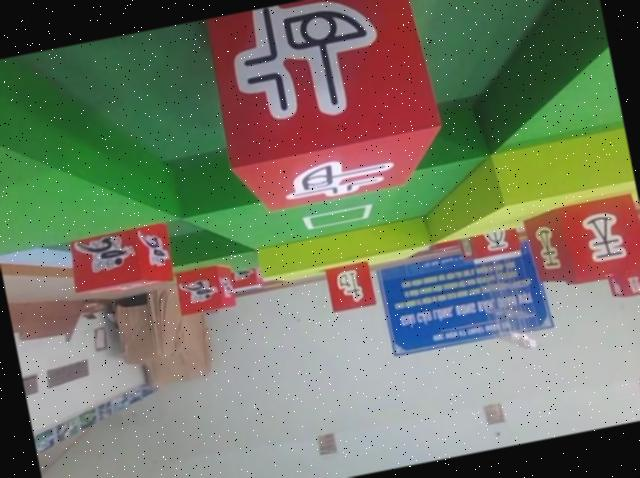R1: (61, 217, 178, 298), (170, 261, 240, 320)
R2 Real: (200, 0, 449, 216), (520, 191, 640, 289), (323, 257, 375, 310)
